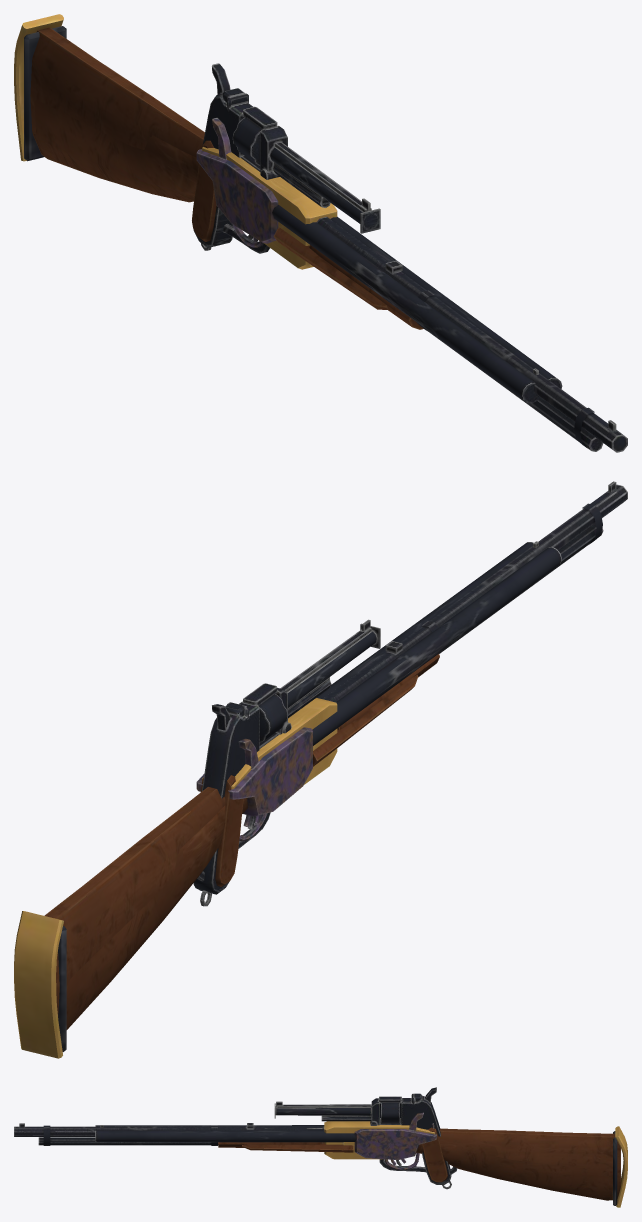
File: weapons.glb
The picture shows the model from 3 angles, top to bottom: view 1: azimuth 30°, elevation 25°; view 2: azimuth 150°, elevation 25°; view 3: azimuth 270°, elevation 25°; orthographic projection. The views are drawn at different scales.
Visible parts, largest first — view 1: CoachGun, Winchester, Schofield; view 2: Winchester, CoachGun, Schofield; view 3: CoachGun, Winchester, Schofield.
Boxes of the visible parts, left/top/right/bottom form: CoachGun: left=24, top=26, right=562, bottom=403; Winchester: left=14, top=14, right=627, bottom=452; Schofield: left=192, top=63, right=380, bottom=250; Winchester: left=14, top=481, right=627, bottom=1058; CoachGun: left=58, top=541, right=561, bottom=1051; Schofield: left=193, top=619, right=380, bottom=906; CoachGun: left=95, top=1112, right=617, bottom=1205; Winchester: left=14, top=1121, right=627, bottom=1207; Schofield: left=274, top=1087, right=451, bottom=1189.
Size of the model in its own units: 0.05 by 0.2309 by 1.12.
Materials: 1 (1 with a texture image).
